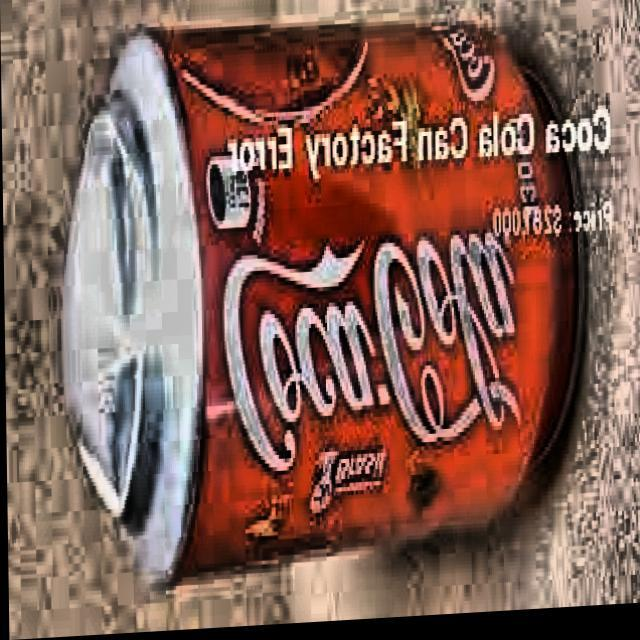can: (72, 9, 574, 572)
